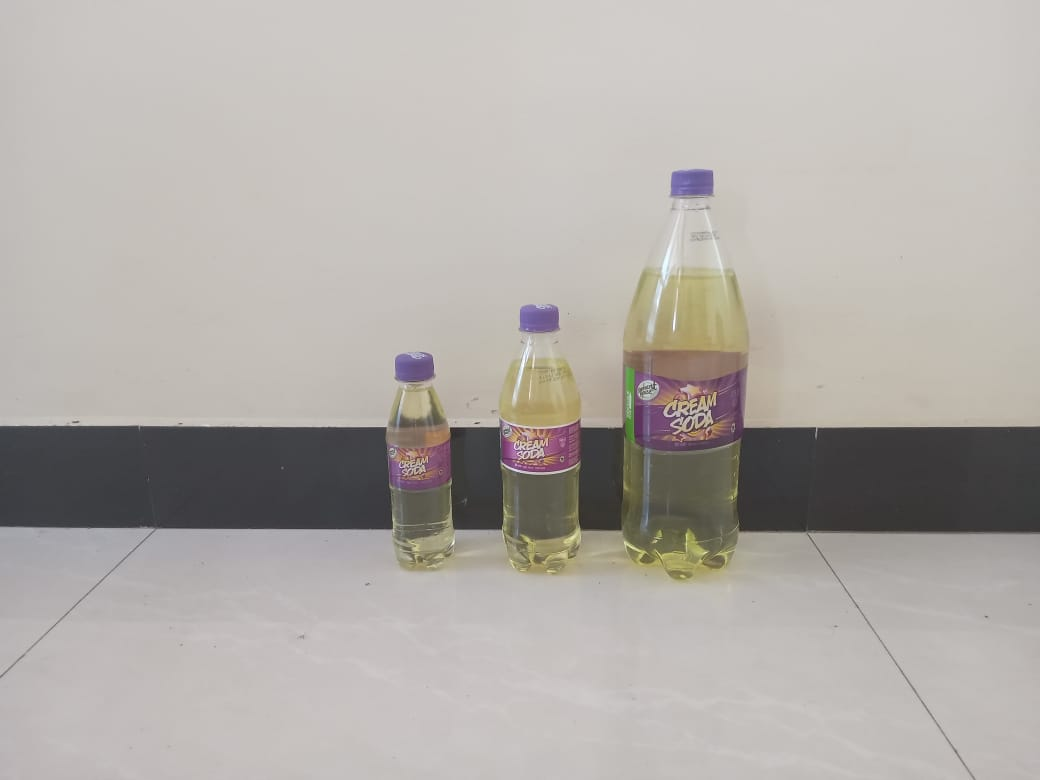L: (623, 169, 748, 588)
S: (493, 301, 586, 573)
Xs: (383, 353, 458, 575)
